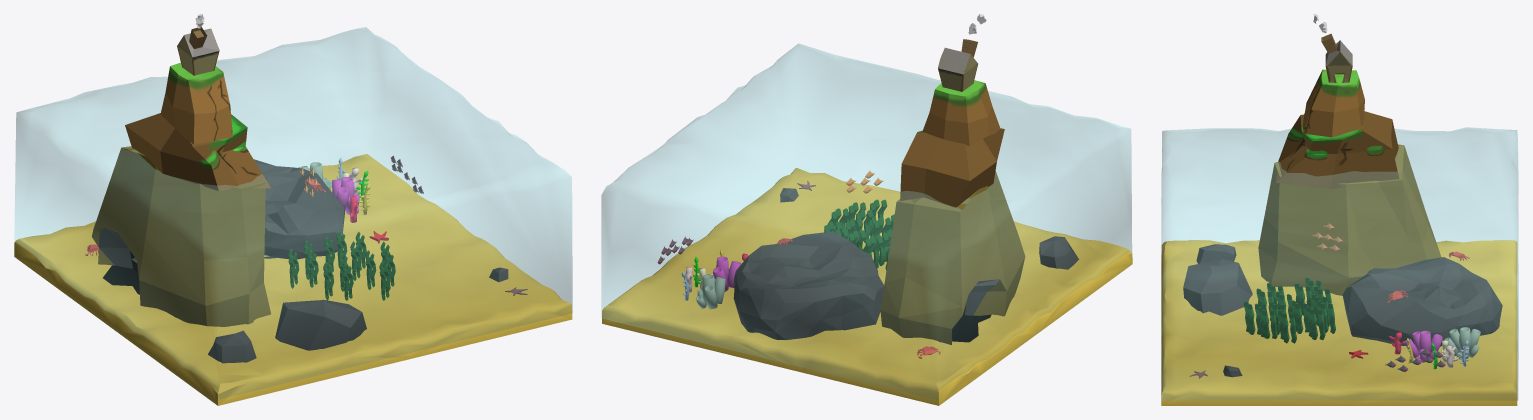
The model's file is sea-blockworld.glb.
3 renders of one model, left to right at view 1: azimuth 30°, elevation 25°; view 2: azimuth 150°, elevation 25°; view 3: azimuth 270°, elevation 25°, orthographic. The views are drawn at different scales.
Parts seen in each view (by area): view 1: Water, Sand, IslandBottom, IslandMiddle, Stone.1, IslandTop, Stone.0, House, Stone.3; view 2: Water, Sand, IslandBottom, Stone.1, IslandMiddle, IslandTop, House, Stone.3; view 3: Water, Sand, IslandBottom, Stone.1, IslandMiddle, IslandTop, Stone.0, House, Stone.3, Seaweed.5, Seaweed.13, Seaweed.11 (+4 smaller).
Boxes of the visible parts, <box> form: Water: <box>14,27,572,398</box>; Sand: <box>14,154,572,405</box>; IslandBottom: <box>91,146,270,326</box>; IslandMiddle: <box>125,113,270,190</box>; Stone.1: <box>254,159,345,259</box>; IslandTop: <box>160,62,232,144</box>; Stone.0: <box>275,299,366,350</box>; House: <box>177,27,219,75</box>; Stone.3: <box>208,330,256,363</box>; Water: <box>601,43,1131,399</box>; Sand: <box>602,168,1132,405</box>; IslandBottom: <box>880,171,1025,344</box>; Stone.1: <box>733,231,883,340</box>; IslandMiddle: <box>900,128,1004,207</box>; IslandTop: <box>922,80,1000,146</box>; House: <box>938,39,977,91</box>; Stone.3: <box>1039,236,1079,269</box>; Water: <box>1161,127,1518,400</box>; Sand: <box>1161,240,1517,405</box>; IslandBottom: <box>1258,144,1441,295</box>; Stone.1: <box>1342,257,1502,346</box>; IslandMiddle: <box>1276,111,1399,189</box>; IslandTop: <box>1303,69,1364,137</box>; Stone.0: <box>1183,259,1252,315</box>; House: <box>1321,33,1352,82</box>; Stone.3: <box>1196,244,1236,263</box>; Seaweed.5: <box>1306,306,1325,340</box>; Seaweed.13: <box>1278,310,1296,343</box>; Seaweed.11: <box>1258,307,1277,338</box>.
Size of the model in its own units: 15.07 by 13.88 by 15.06.
Materials: 24 (5 with a texture image).
